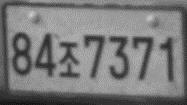1: (157, 35, 174, 84)
3: (107, 34, 131, 79)
4: (34, 33, 56, 77)
7: (131, 35, 155, 81), (83, 33, 105, 79)
8: (11, 32, 32, 76)
조: (58, 41, 80, 79)
